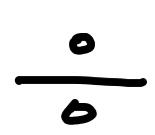div: (15, 33, 148, 124)
